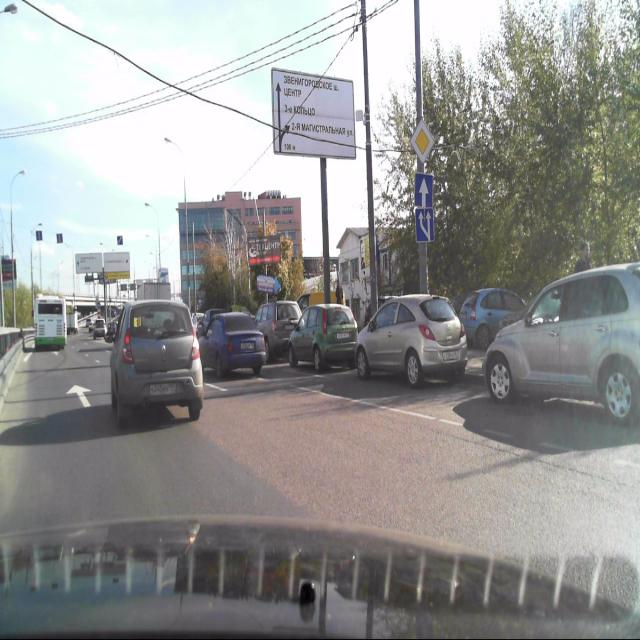road sign: (408, 116, 436, 165), (414, 172, 434, 210), (414, 211, 433, 243)
